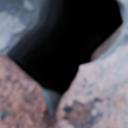broken_brick: (50, 42, 127, 127), (0, 56, 46, 127)
crack: (0, 0, 125, 127)
